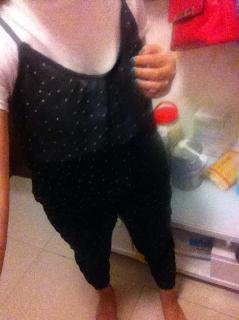sling dress: (0, 0, 164, 199)
trousers: (31, 140, 177, 291)
